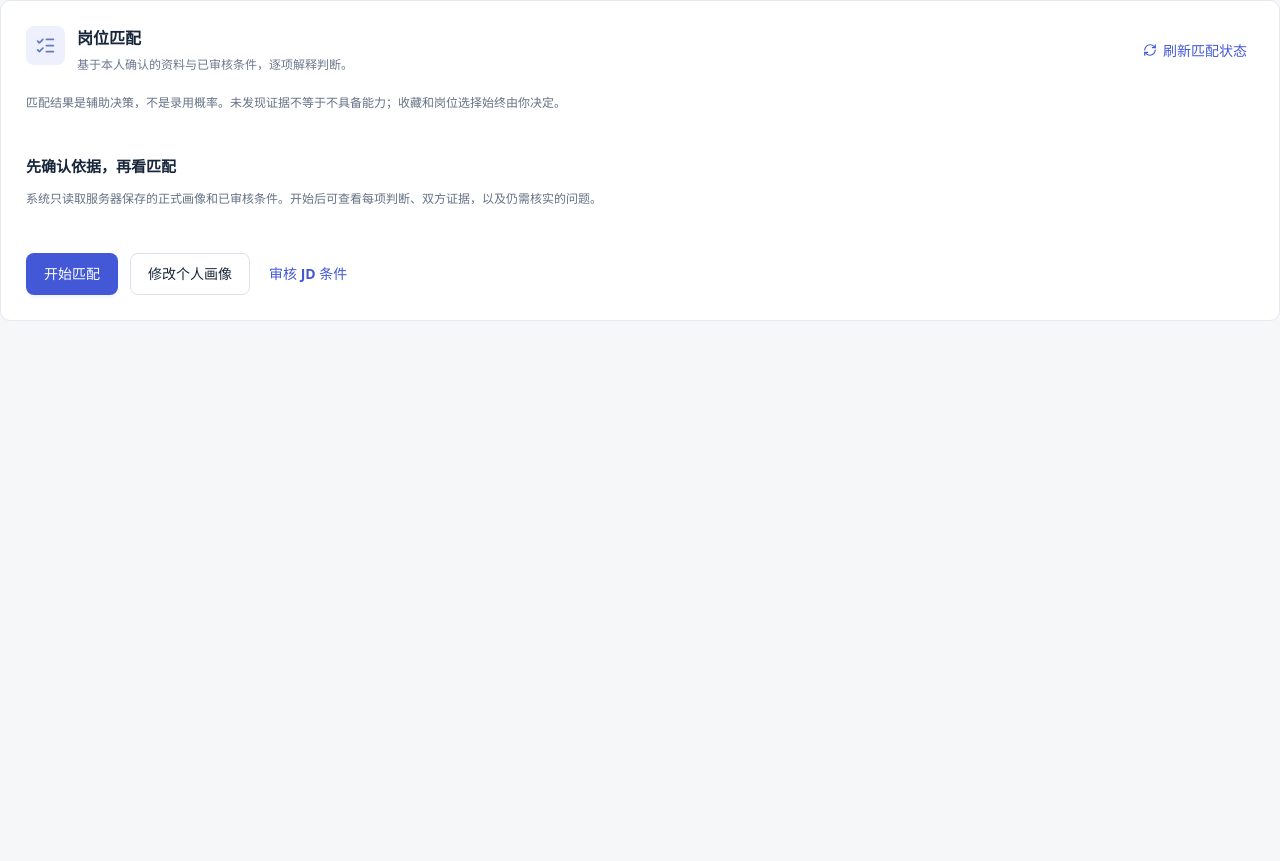
Test: sends only revisions and an idempotency key, then exposes both evidence sources without a score
This screenshot has width=1280, height=861.
Click the button "开始匹配": (72, 274) left=26, top=252, right=118, bottom=294
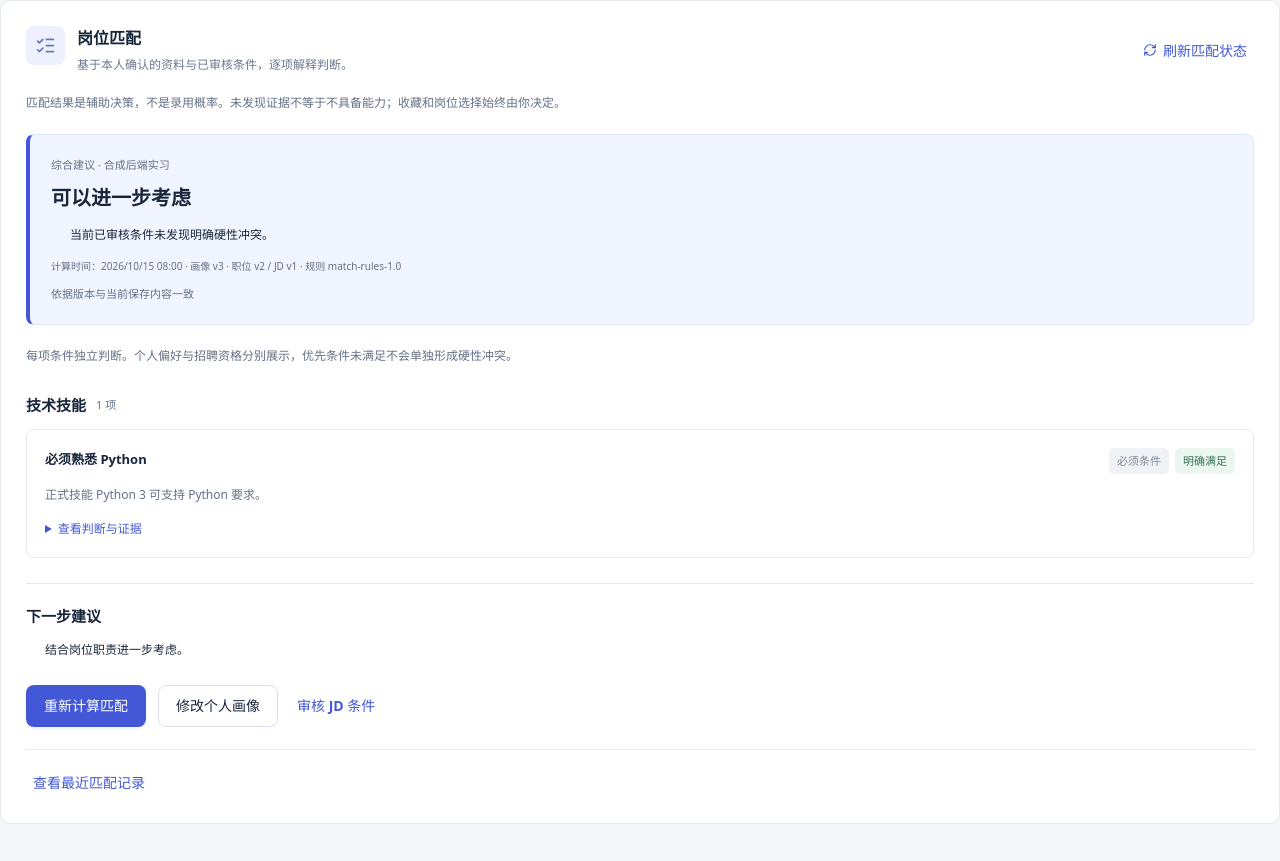
Expected: the heading "可以进一步考虑" is shown, left=51, top=184, right=191, bottom=211
Expected: the text "明确满足" is shown, left=1175, top=448, right=1235, bottom=474
Click the heading "查看判断与证据": (100, 528) left=58, top=520, right=142, bottom=536
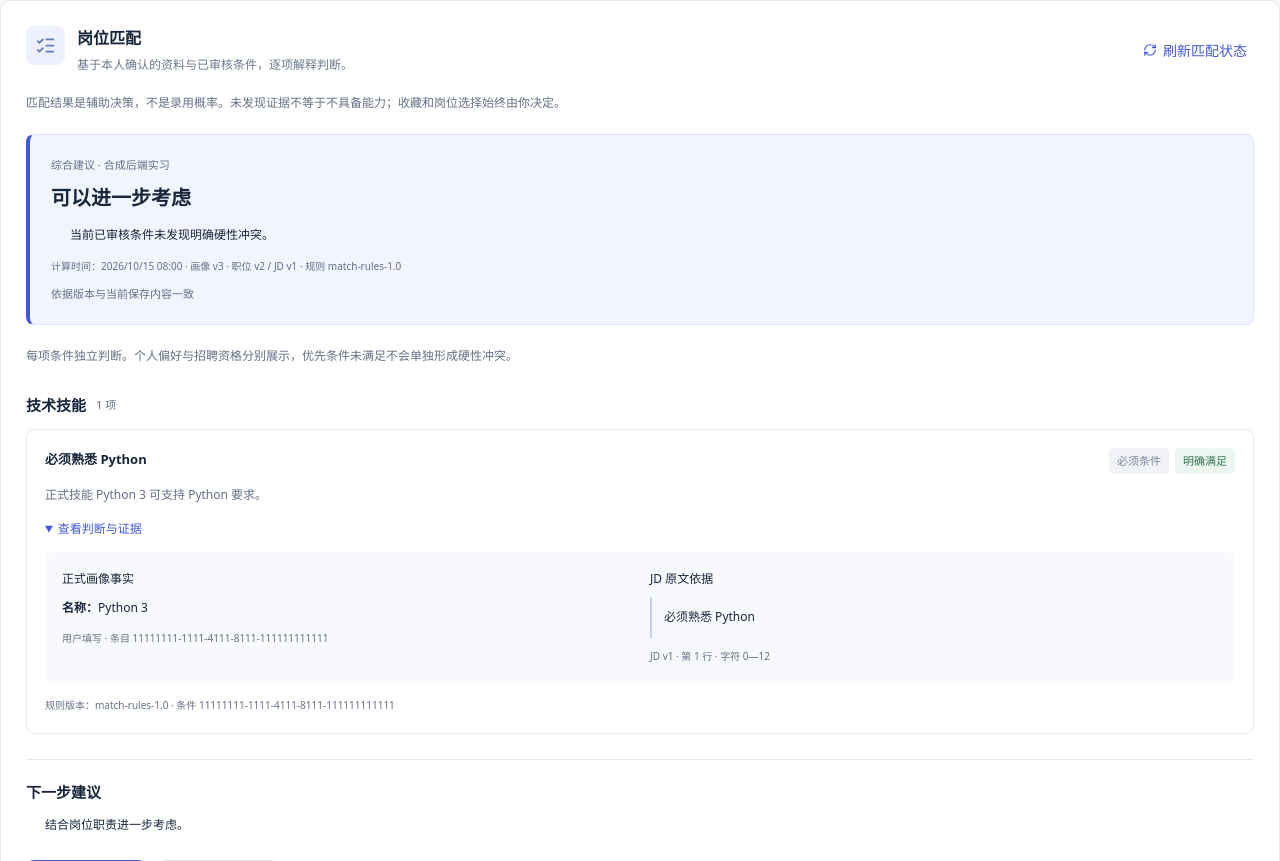
Expected: the text "Python 3" is shown, left=98, top=599, right=148, bottom=616
Expected: the text "JD v1 · 第 1 行 · 字符 0—12" is shown, left=650, top=649, right=770, bottom=663
Expected: the text "用户填写 · 条目 11111111-1111-4111-8111-111111111111" is shown, left=62, top=631, right=328, bottom=645
